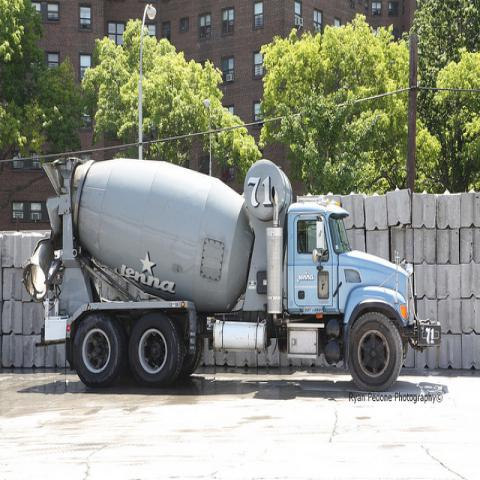truck: (24, 157, 444, 394)
